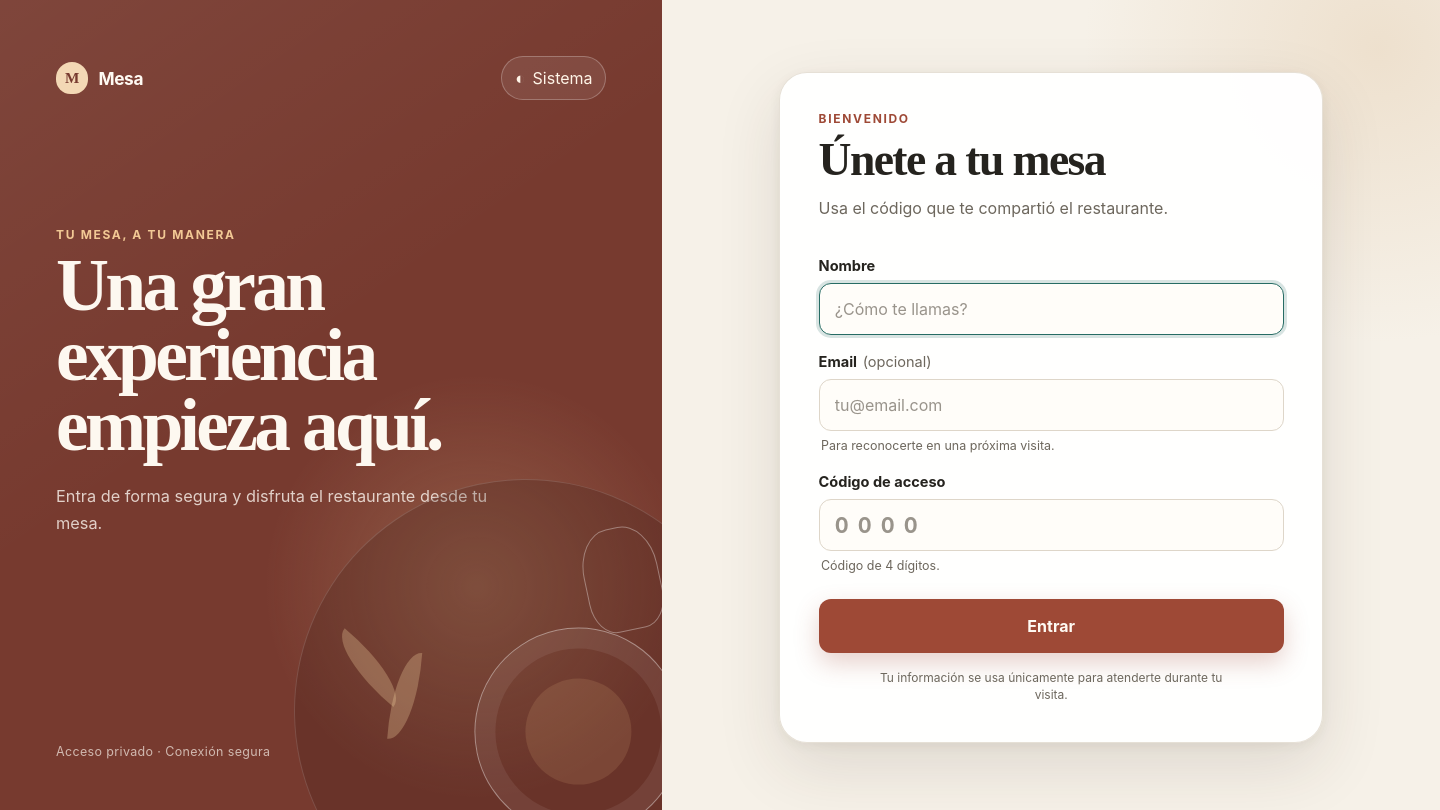
Test: diner access › uses the authoritative join contract and reaches the authenticated shell
Type "  Ana  " into the field labelled "Nombre".
click(1051, 309); type("  Ana  ")  # box left=819, top=283, right=1284, bottom=335
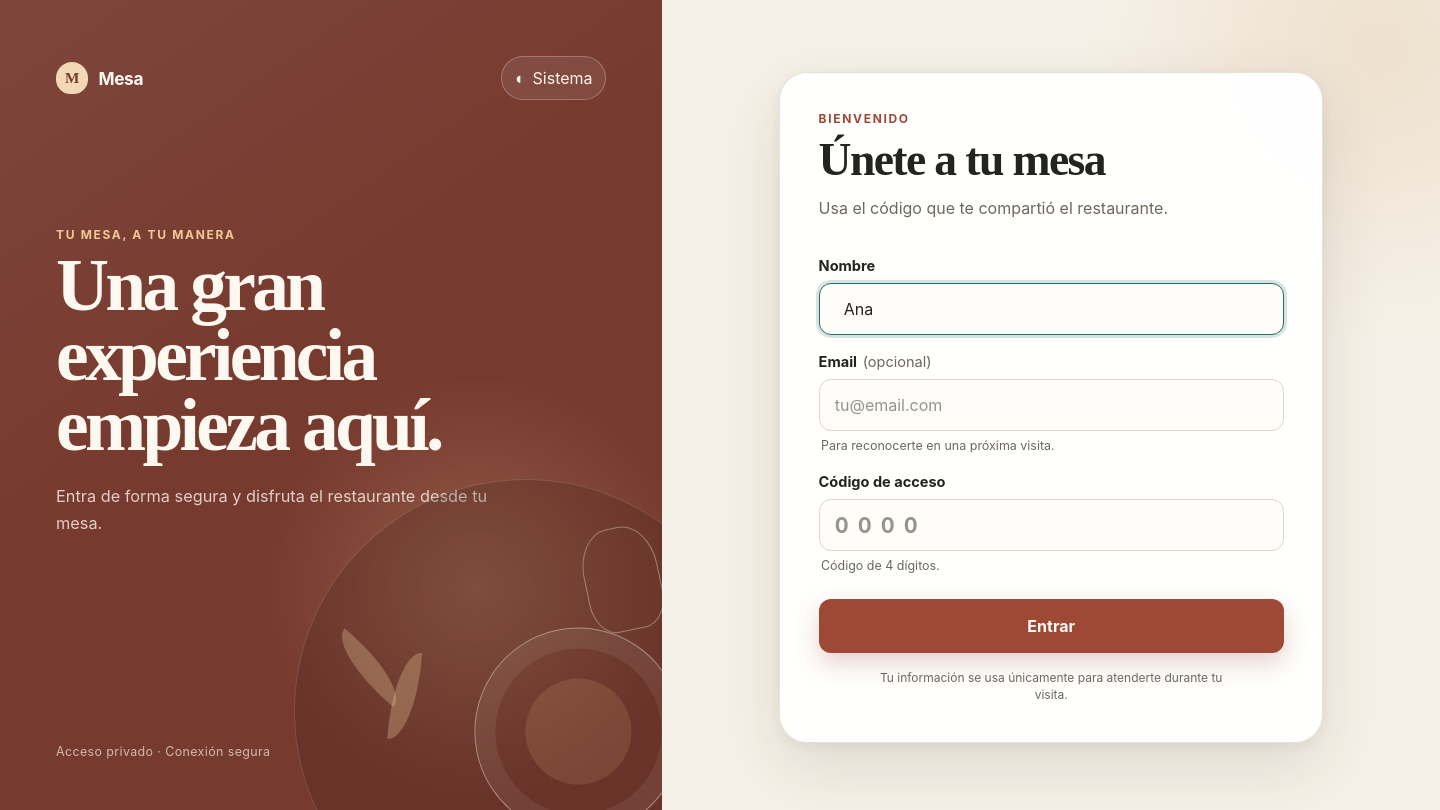
Type "ana@example.com" into the field labelled "Email (opcional)".
click(1051, 405); type("ana@example.com")  # box left=819, top=379, right=1284, bottom=431
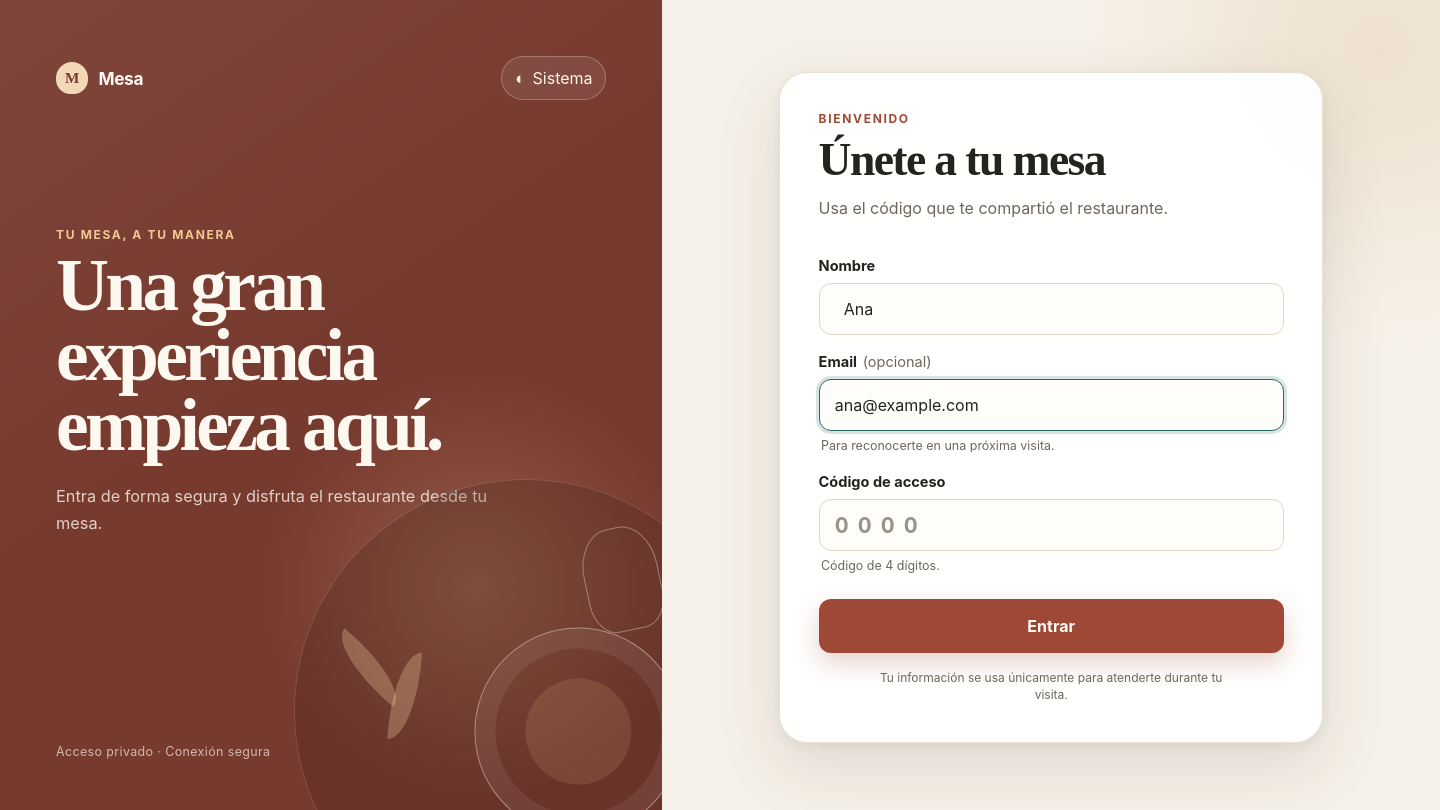
Type "0427" into the field labelled "Código de acceso".
click(1051, 525); type("0427")  # box left=819, top=499, right=1284, bottom=551
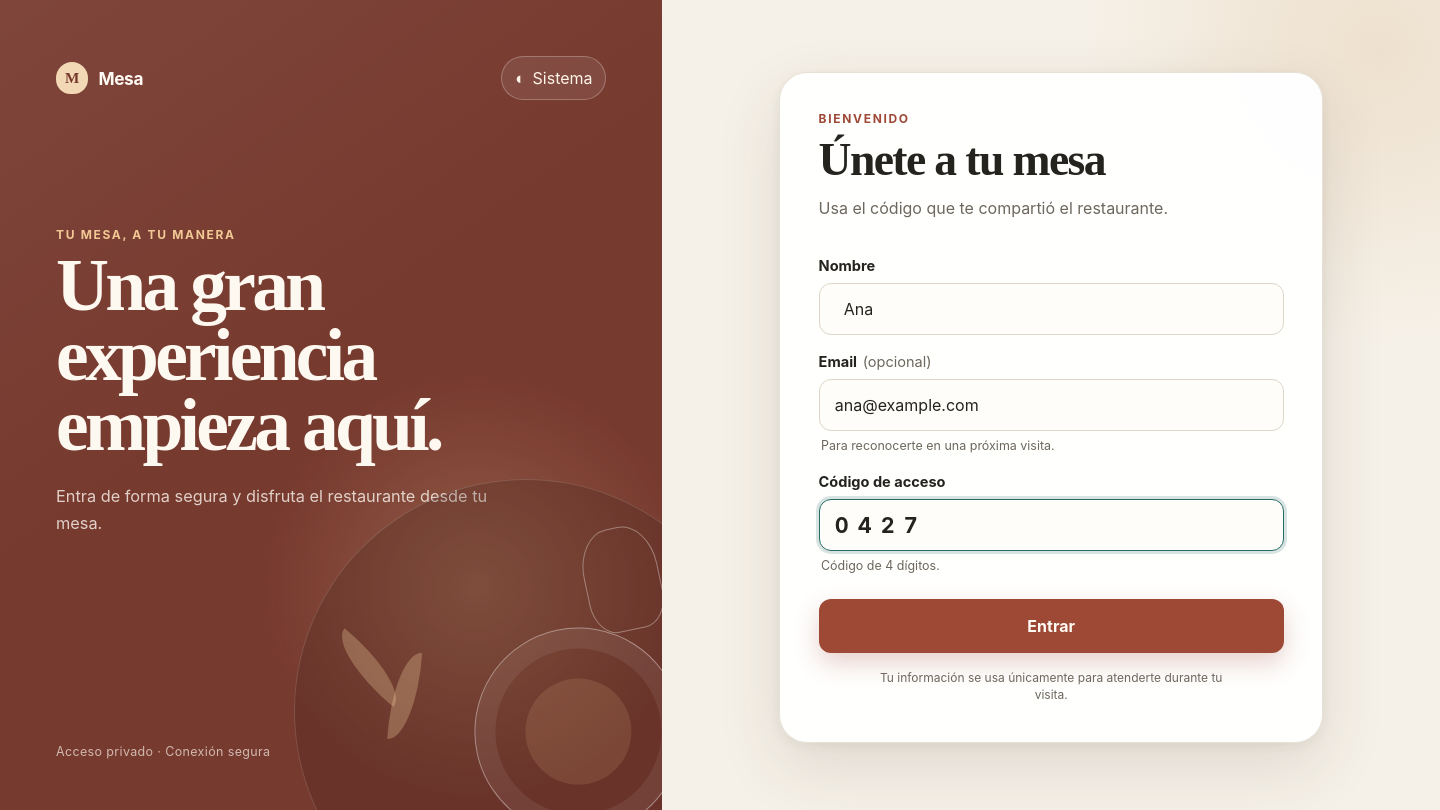
Click the button "Entrar".
click(1051, 626)  # box left=819, top=598, right=1284, bottom=652
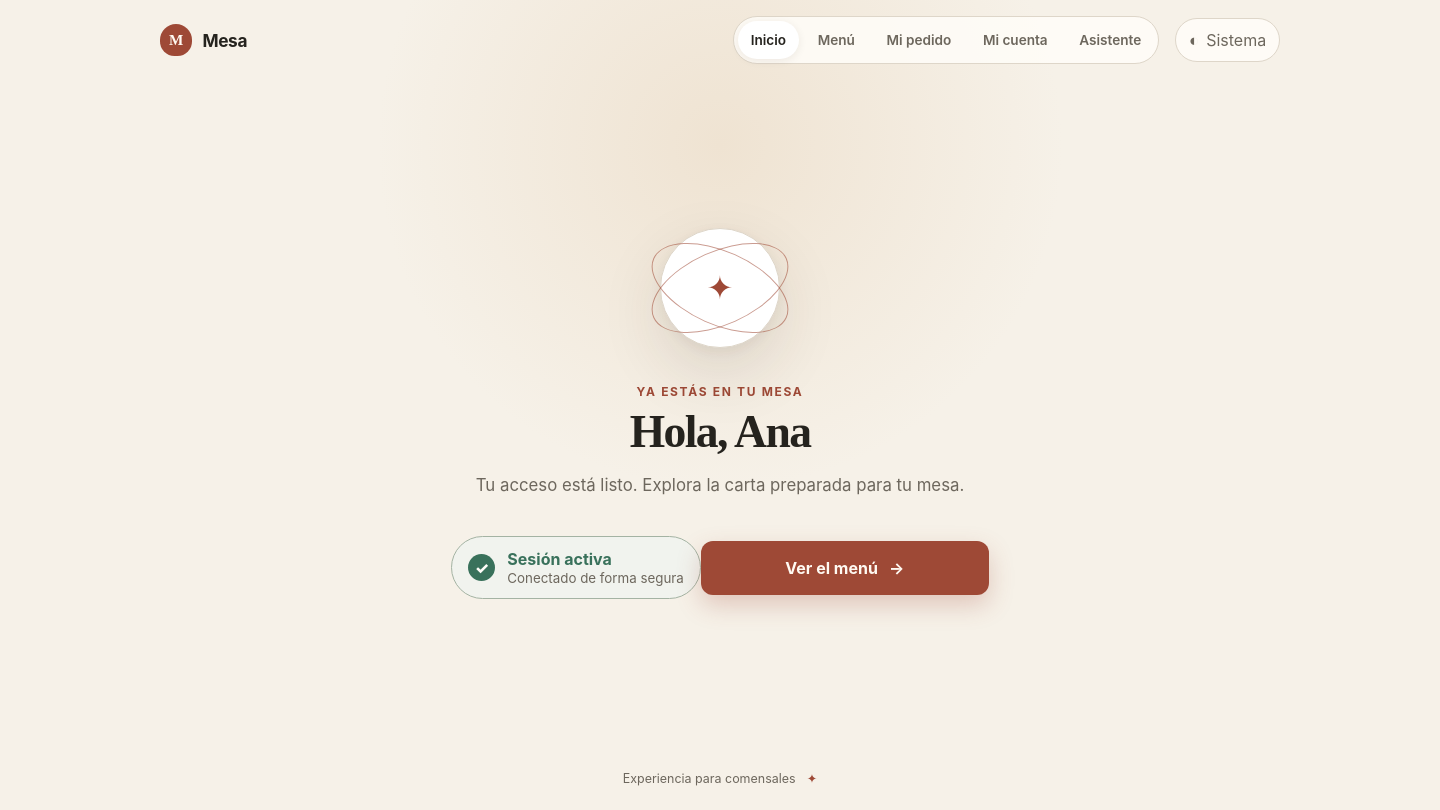
expect the heading "Hola, Ana" is shown: met, box left=630, top=406, right=810, bottom=457
